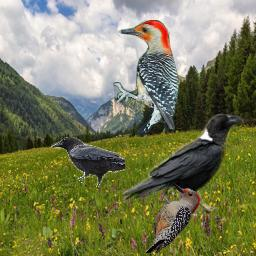Crow: (121, 110, 245, 217), (51, 137, 125, 187)
Woodpecker: (113, 20, 181, 137), (146, 183, 200, 253)
